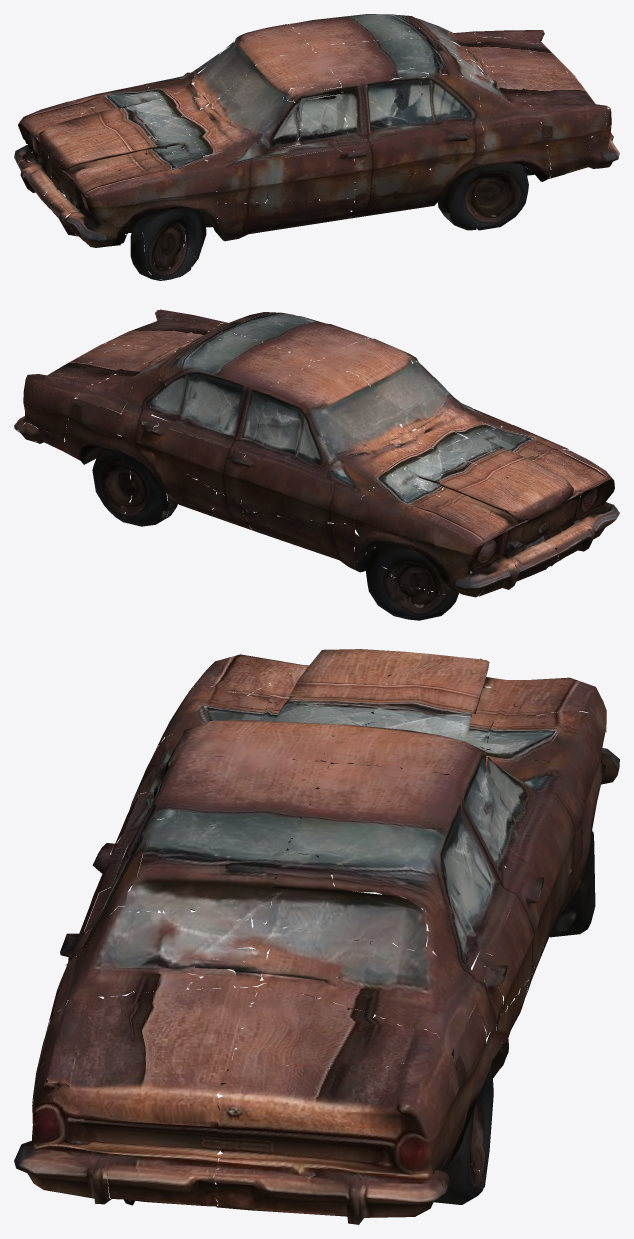
Rendered from car.glb.
The picture shows the model from 3 angles, top to bottom: view 1: azimuth 30°, elevation 25°; view 2: azimuth 150°, elevation 25°; view 3: azimuth 270°, elevation 25°; orthographic projection. The views are drawn at different scales.
Parts seen in each view (by area): view 1: car; view 2: car; view 3: car.
Part boxes in pixels (x1,y1,x2,y2): car: (14, 14, 619, 280); car: (14, 309, 619, 620); car: (14, 649, 619, 1224).
Size of the model in its own units: 5.35 by 1.56 by 2.86.
Materials: 1 (1 with a texture image).
